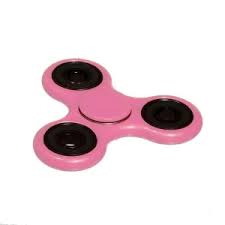fidget_spinner: (11, 26, 215, 184)
